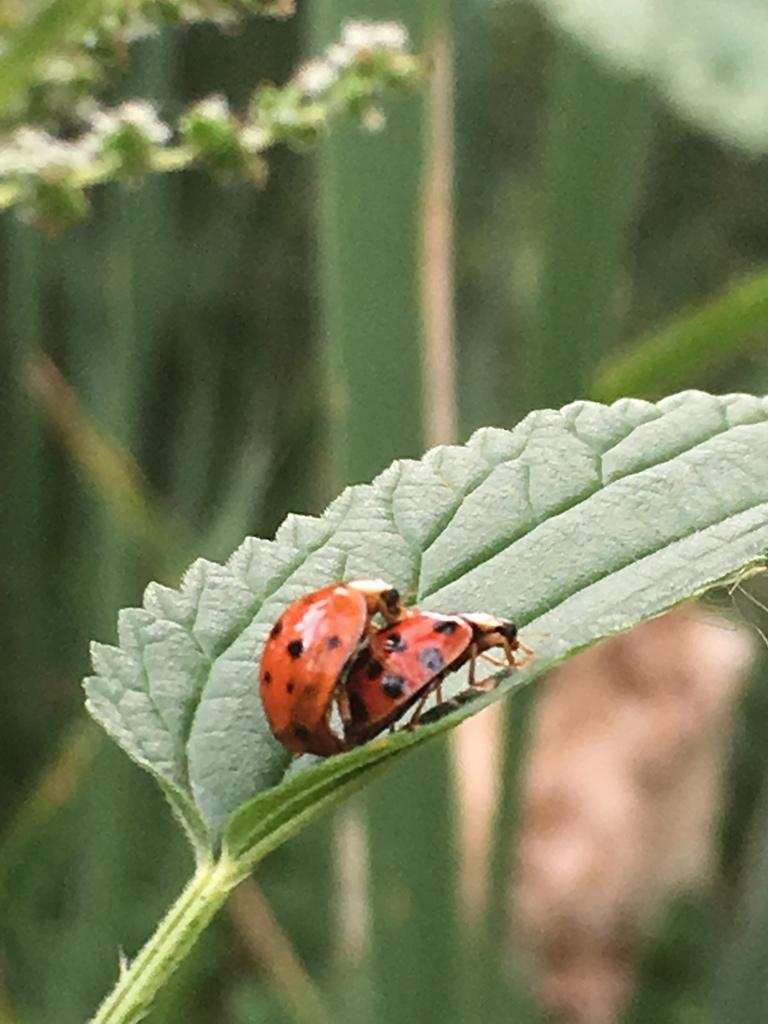ladybug: (257, 576, 415, 765), (340, 607, 541, 755)
